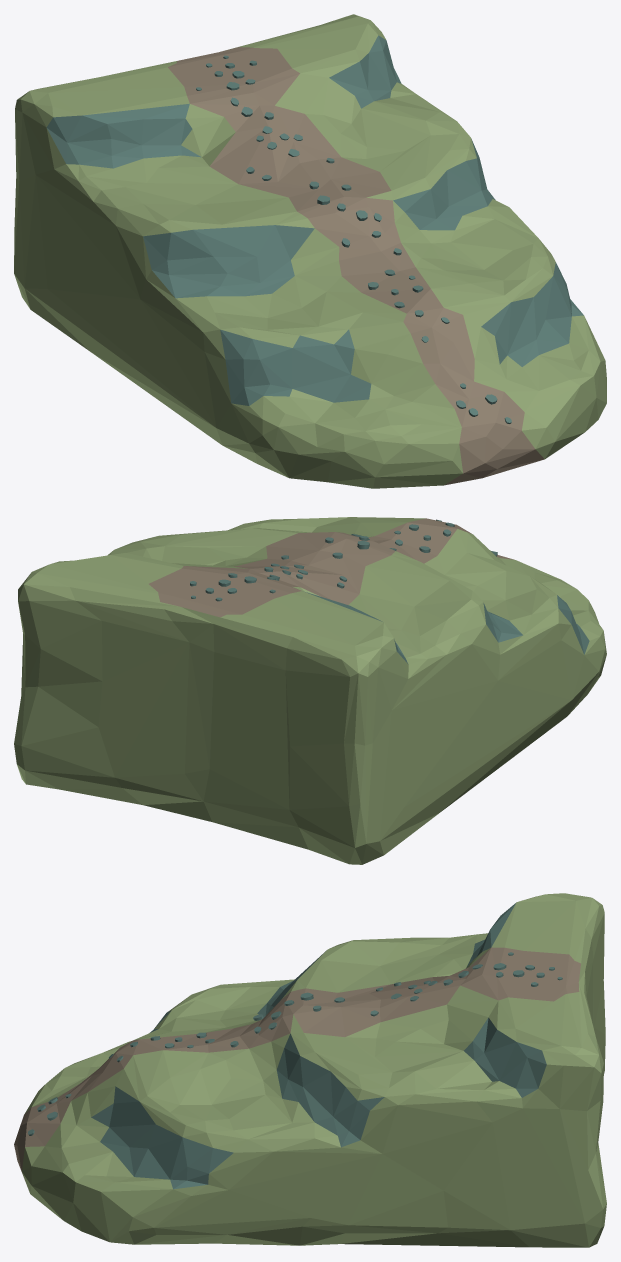
Rendered from T road3.fbx.
The picture shows the model from 3 angles, top to bottom: view 1: azimuth 30°, elevation 25°; view 2: azimuth 150°, elevation 25°; view 3: azimuth 270°, elevation 25°; orthographic projection. The views are drawn at different scales.
Parts seen in each view (by area): view 1: polySurface9; view 2: polySurface9; view 3: polySurface9.
Boxes of the visible parts, x1,y1,x2,y2 form: polySurface9: (14,14,606,488); polySurface9: (14,517,606,864); polySurface9: (14,893,606,1247).
Bounding box in the file's own units: 208 × 118 × 318.
